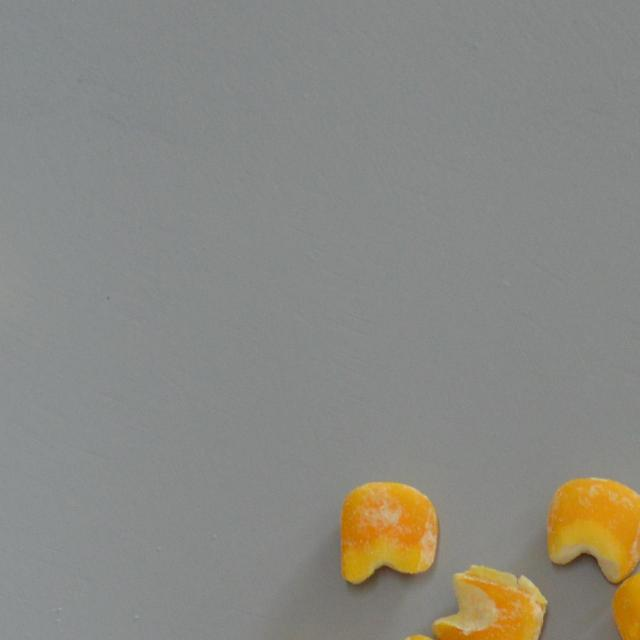pelicula: (340, 478, 440, 586), (544, 476, 640, 584), (432, 564, 548, 640), (609, 568, 640, 640)
